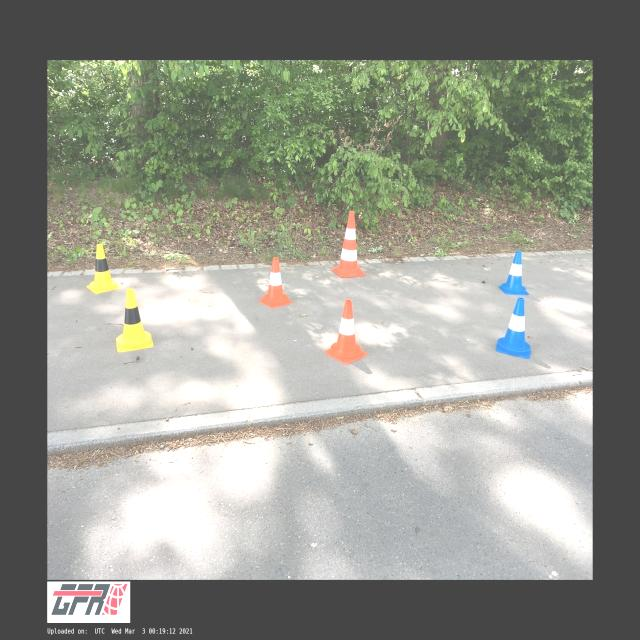blue_cone: (496, 297, 530, 358), (498, 251, 528, 295)
large_orange_cone: (332, 211, 365, 278)
orange_cone: (324, 299, 368, 365), (258, 256, 292, 308)
yellow_cone: (115, 288, 154, 352), (86, 244, 122, 294)
